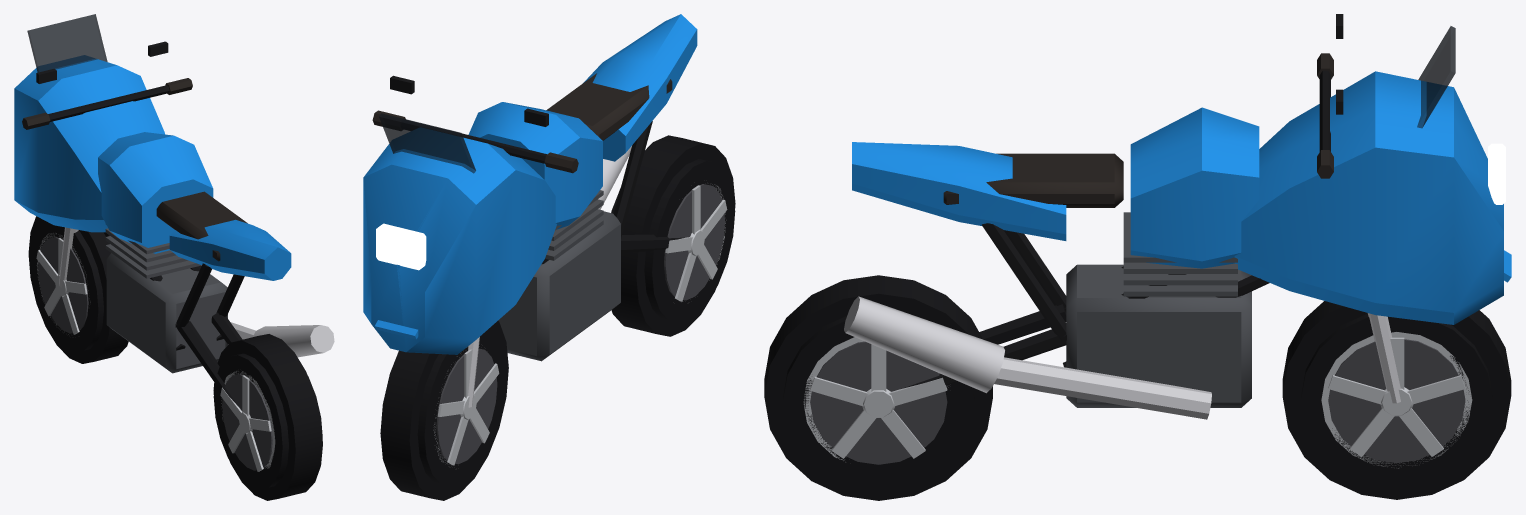
Rendered from bike.glb.
3 views of the same model, side by side, from view 1: azimuth 30°, elevation 25°; view 2: azimuth 150°, elevation 25°; view 3: azimuth 270°, elevation 25° (orthographic). The views are drawn at different scales.
Parts seen in each view (by area): view 1: Body.013, Wheel_R, Wheel_F; view 2: Body.013, Wheel_R, Wheel_F; view 3: Body.013, Wheel_F, Wheel_R.
Boxes of the visible parts, x1=… form: Body.013: x1=14, y1=14, x2=334, y2=406; Wheel_R: x1=213, y1=334, x2=322, y2=500; Wheel_F: x1=28, y1=216, x2=128, y2=363; Body.013: x1=363, y1=14, x2=697, y2=407; Wheel_R: x1=611, y1=135, x2=735, y2=336; Wheel_F: x1=380, y1=321, x2=508, y2=500; Body.013: x1=844, y1=14, x2=1511, y2=419; Wheel_F: x1=1282, y1=301, x2=1511, y2=499; Wheel_R: x1=764, y1=275, x2=992, y2=500.
Size of the model in its own units: 0.74 by 1.37 by 2.09.
